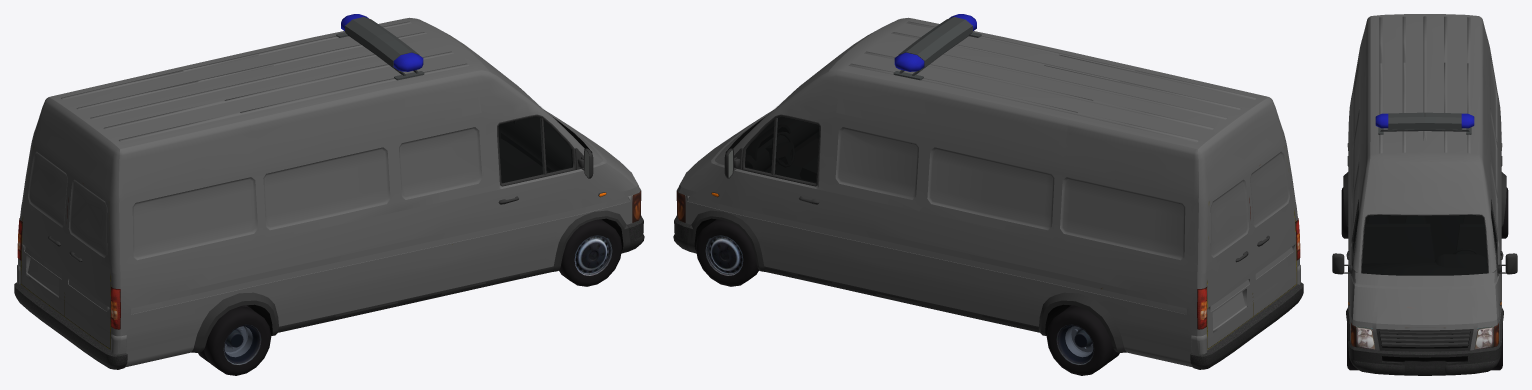
File: van_grey.glb
3 renders of one model, left to right at view 1: azimuth 30°, elevation 25°; view 2: azimuth 150°, elevation 25°; view 3: azimuth 270°, elevation 25°, orthographic. The views are drawn at different scales.
Visible parts, largest first — view 1: ambulance_1, Plastic_7, wheel_rr_11, wheel_fr_9, blue_lamps_2, lamps_3; view 2: ambulance_1, Plastic_7, wheel_rl_10, wheel_fl_8, blue_lamps_2, lamps_3; view 3: ambulance_1, Plastic_7, lamps_3, blue_lamps_2, lamps2_4, wheel_rl_10, wheel_rr_11.
Boxes of the visible parts, x1,y1,x2,y2 form: ambulance_1: [17, 17, 640, 367]; Plastic_7: [14, 17, 644, 369]; wheel_rr_11: [198, 305, 271, 375]; wheel_fr_9: [559, 219, 622, 286]; blue_lamps_2: [341, 14, 423, 71]; lamps_3: [17, 188, 640, 329]; ambulance_1: [677, 17, 1300, 367]; Plastic_7: [673, 17, 1303, 369]; wheel_rl_10: [1046, 305, 1119, 375]; wheel_fl_8: [695, 219, 758, 286]; blue_lamps_2: [894, 14, 976, 71]; lamps_3: [677, 188, 1300, 329]; ambulance_1: [1347, 14, 1502, 350]; Plastic_7: [1332, 112, 1517, 375]; lamps_3: [1356, 326, 1493, 349]; blue_lamps_2: [1375, 113, 1474, 128]; lamps2_4: [1348, 302, 1501, 346]; wheel_rl_10: [1501, 187, 1508, 238]; wheel_rr_11: [1341, 187, 1348, 238].
Bounding box in the file's own units: 6.59 × 2.9 × 2.52.
5 materials, 4 textured.
